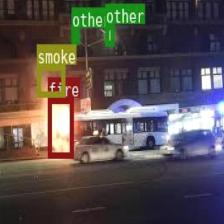fire: (48, 97, 72, 156)
smoke: (37, 64, 64, 96)
